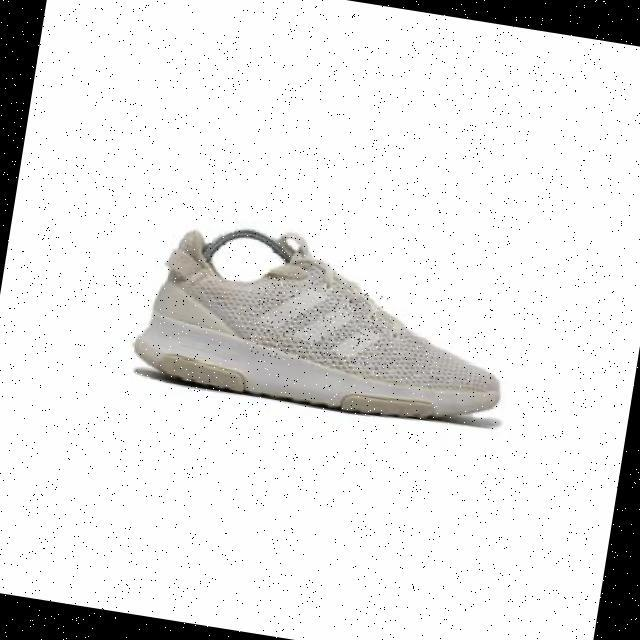Adidas: (248, 274, 390, 375)
